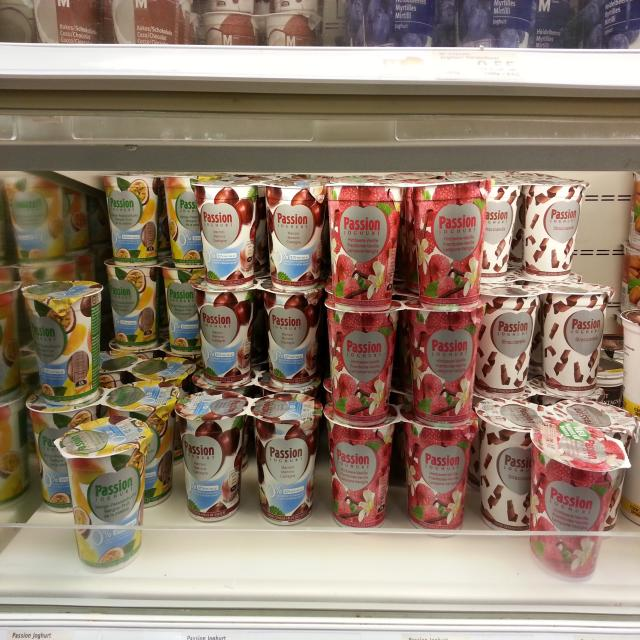Yoghurt: (322, 176, 494, 311), (472, 393, 634, 536), (324, 287, 481, 429), (170, 384, 324, 522), (320, 407, 479, 528), (521, 420, 629, 581), (467, 278, 616, 392), (49, 415, 154, 570), (453, 170, 588, 278), (197, 181, 325, 286), (191, 287, 319, 388), (23, 274, 105, 402), (99, 177, 219, 263), (100, 262, 208, 349)
